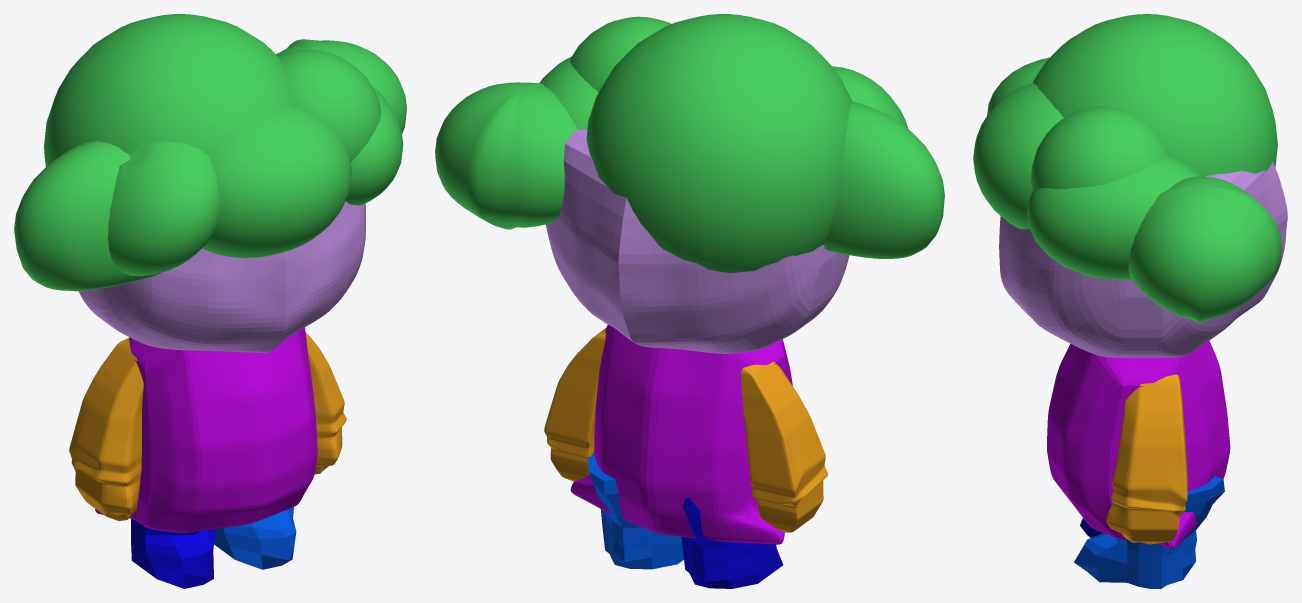
File: tree.glb
3 views of the same model, side by side, from view 1: azimuth 30°, elevation 25°; view 2: azimuth 150°, elevation 25°; view 3: azimuth 270°, elevation 25° (orthographic). The views are drawn at different scales.
Visible parts, largest first — view 1: 身體, 球體.004, 頭, 球體, 立方體.003, 球體.005, 球體.006, 球體.003, 左腳, 球體.002, 右腳, 球體.001; view 2: 球體.004, 身體, 頭, 球體.001, 立方體.003, 球體.005, 左腳, 右腳, 球體.003, 球體.002, 球體.006; view 3: 球體.004, 身體, 頭, 球體.001, 立方體.003, 球體.002, 球體.003, 球體, 右腳, 球體.006.
Boxes of the visible parts, <box> form: 身體: <box>95,327,317,532</box>; 球體.004: <box>44,14,292,166</box>; 頭: <box>79,201,365,353</box>; 球體: <box>202,104,351,257</box>; 立方體.003: <box>69,332,346,520</box>; 球體.005: <box>14,141,160,291</box>; 球體.006: <box>107,141,219,275</box>; 球體.003: <box>278,49,381,162</box>; 左腳: <box>131,518,215,588</box>; 球體.002: <box>345,86,403,205</box>; 右腳: <box>214,507,296,569</box>; 球體.001: <box>276,39,406,133</box>; 球體.004: <box>586,14,852,272</box>; 身體: <box>570,325,792,544</box>; 頭: <box>545,129,849,353</box>; 球體.001: <box>435,82,577,229</box>; 立方體.003: <box>544,328,827,532</box>; 球體.005: <box>824,101,944,258</box>; 左腳: <box>681,497,783,588</box>; 右腳: <box>587,453,683,569</box>; 球體.003: <box>570,16,671,92</box>; 球體.002: <box>539,56,598,129</box>; 球體.006: <box>832,66,907,127</box>; 球體.004: <box>1032,14,1277,176</box>; 身體: <box>1047,340,1230,549</box>; 頭: <box>999,161,1287,357</box>; 球體.001: <box>1128,176,1282,323</box>; 立方體.003: <box>1106,374,1187,544</box>; 球體.002: <box>1027,156,1200,279</box>; 球體.003: <box>1031,106,1170,191</box>; 球體: <box>973,82,1063,229</box>; 右腳: <box>1074,476,1224,588</box>; 球體.006: <box>987,57,1049,115</box>.
Size of the model in its own units: 1.32 by 1.57 by 0.8688.
